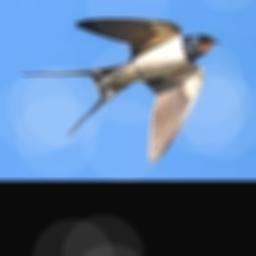Swallow: (22, 18, 219, 163)
